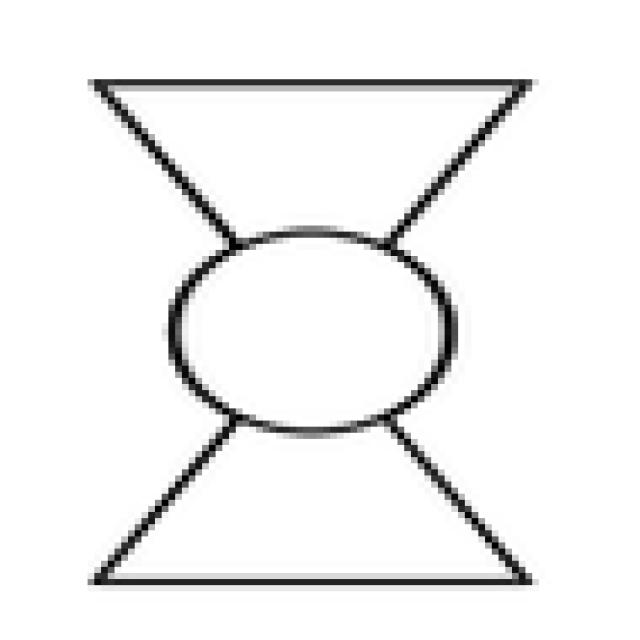ball valve: (92, 81, 531, 583)
